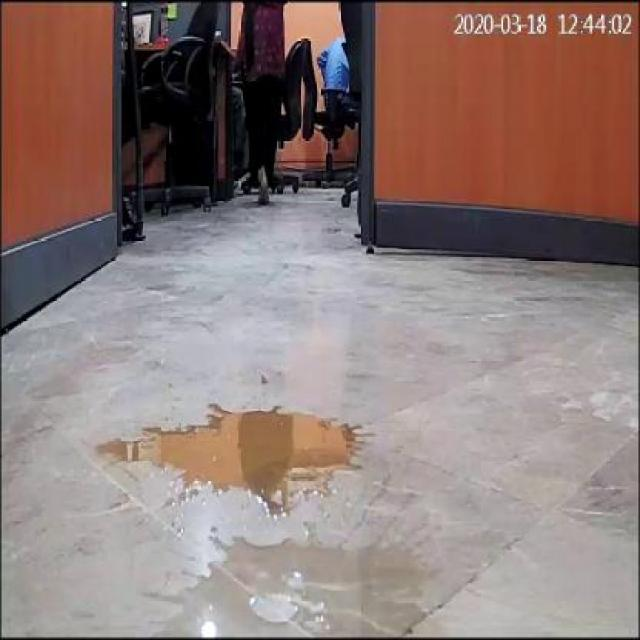spill: (95, 394, 377, 508), (140, 528, 432, 636)
